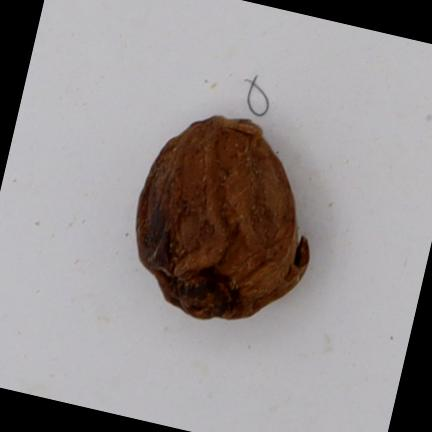husk: (137, 116, 309, 319)
